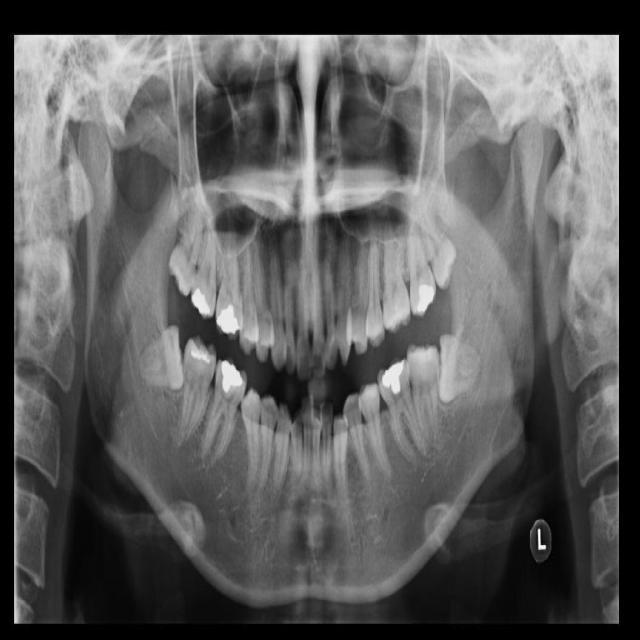3M ESPE Implant: (162, 206, 210, 298)
52: (364, 351, 424, 410), (174, 332, 225, 389), (214, 355, 249, 412), (213, 281, 246, 341), (189, 266, 219, 320), (409, 267, 437, 317), (410, 266, 436, 317)
73: (576, 571, 578, 590)
BioHorizons Implant: (405, 205, 437, 318)
BioLife Implant: (410, 192, 467, 292)
Biomet 3i Implant: (436, 333, 484, 405)
Blue Sky Bio Implant: (406, 343, 442, 450)
Caries: (189, 228, 221, 320), (190, 258, 218, 321)
Implant: (178, 334, 218, 440)
Keystone Dental Implant: (137, 324, 187, 392)
